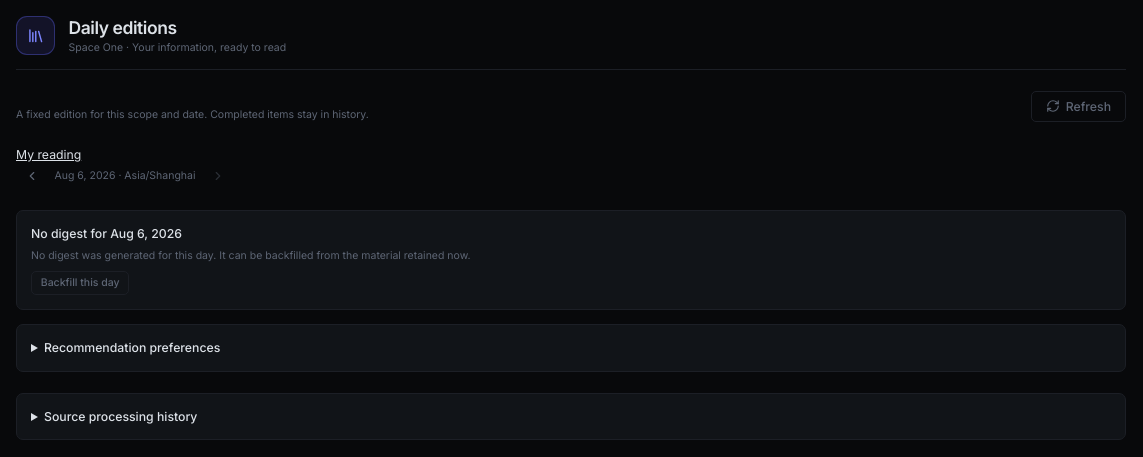
Scenario: LibraryPage › shows a missing day without generating it, and backfills only when asked
expect the text "Aug 6, 2026 · Asia/Shanghai" is shown: met, box [54, 169, 196, 183]
expect the text "No digest for Aug 6, 2026" is shown: met, box [31, 226, 182, 240]
Click the button "Backfill this day".
click(80, 283)  # box [31, 271, 129, 295]
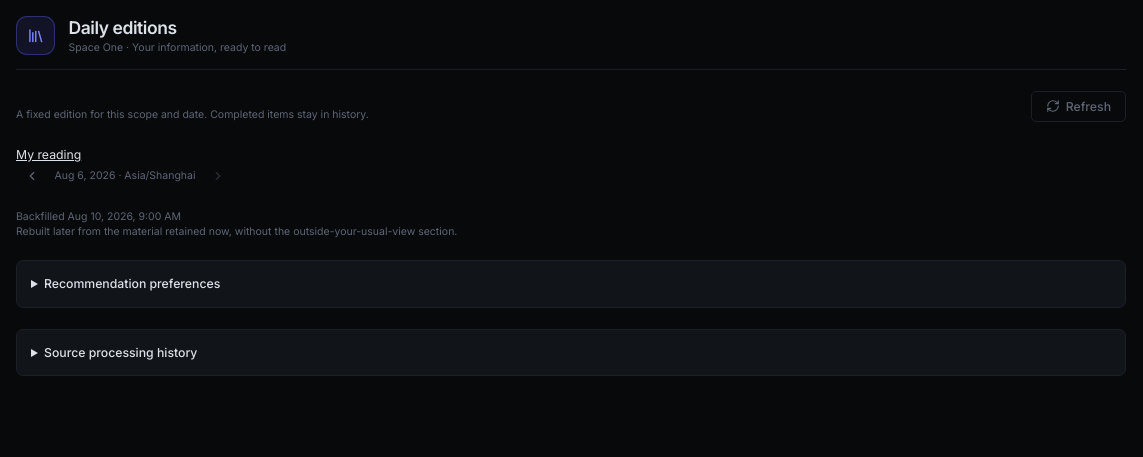
expect the text "Backfilled Aug 10, 2026, 9:00 AM" is shown: met, box [16, 210, 181, 222]
expect the button "Backfill this day" is gone: met
